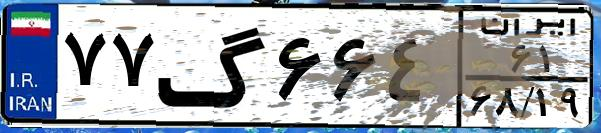1: (537, 27, 568, 80), (535, 70, 560, 125)
4: (385, 28, 445, 110)
6: (270, 28, 330, 110), (330, 28, 385, 110), (508, 27, 537, 80), (470, 70, 495, 125)
7: (57, 26, 110, 100), (110, 28, 156, 98)
8: (495, 70, 520, 125)
9: (560, 70, 590, 125)
گ: (156, 12, 270, 120)
